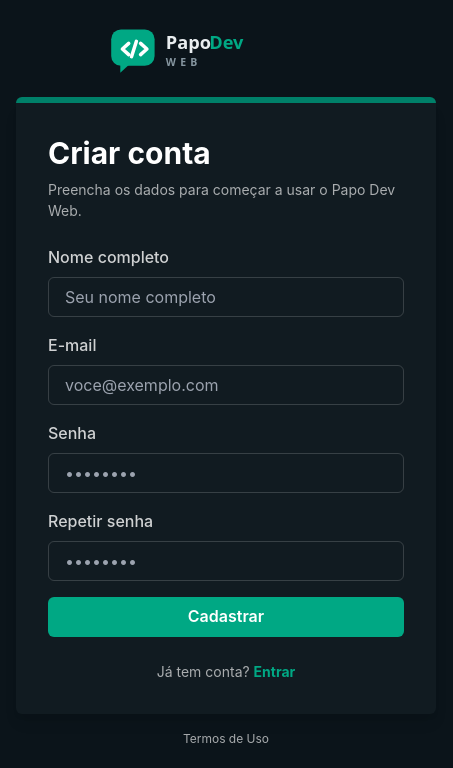
Test: RegisterPage › valida divergência entre as senhas
In the field labelled "Nome completo": (226,296) [48, 276, 404, 316], type "Maria da Silva"
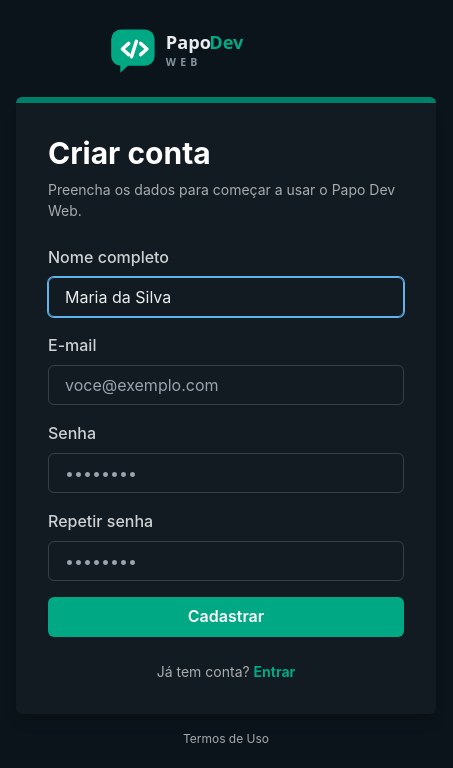
In the field labelled "E-mail": (226,384) [48, 364, 404, 404], type "maria@example.com"
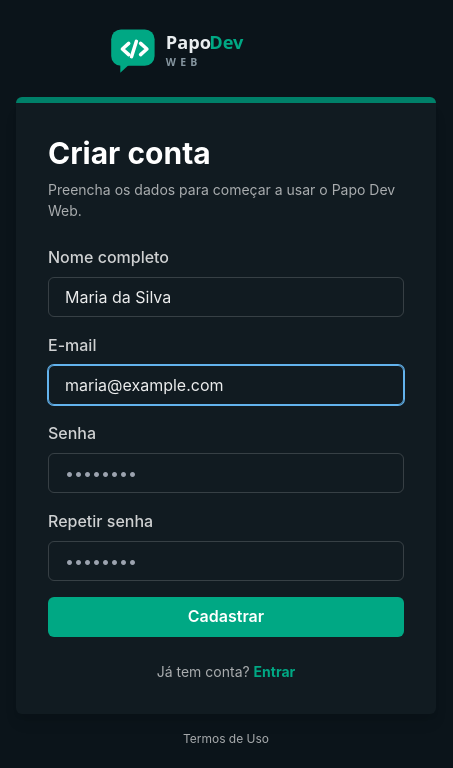
In the password field labelled "Senha": (226,472) [48, 452, 404, 492], type "senhaSegura123"
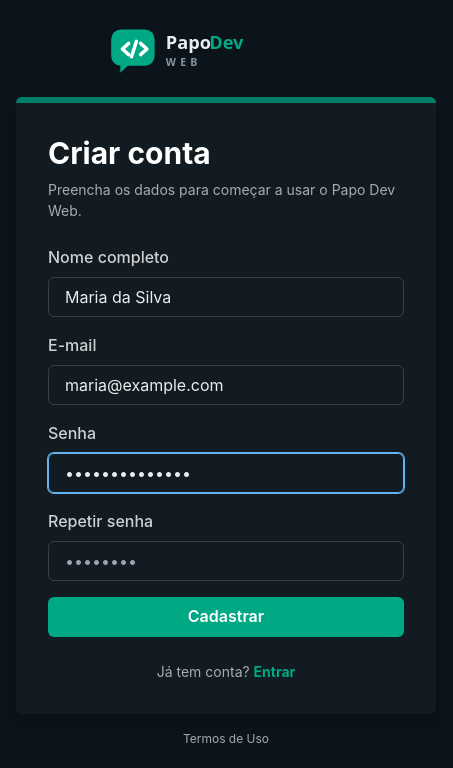
In the password field labelled "Repetir senha": (226,560) [48, 540, 404, 580], type "diferente123"
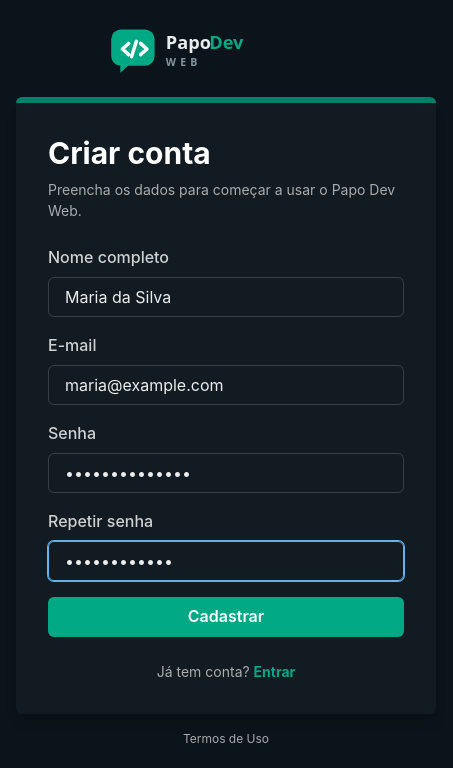
Click the button "Cadastrar": (226,616) [48, 596, 404, 636]
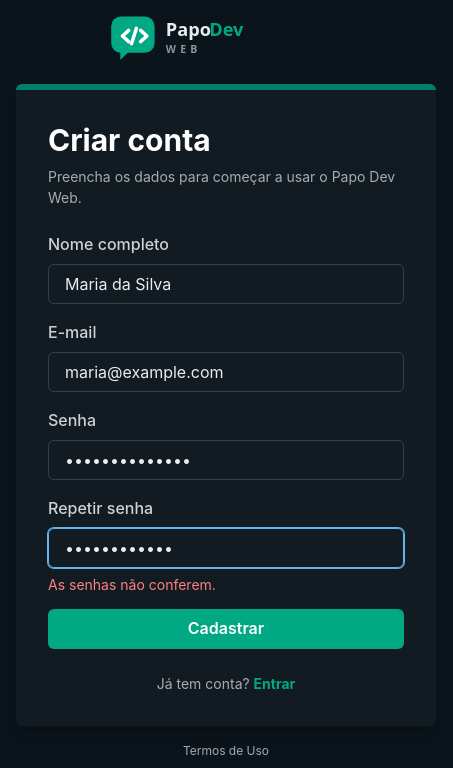
Check: the text "As senhas não conferem." is shown, box [48, 576, 216, 593]
